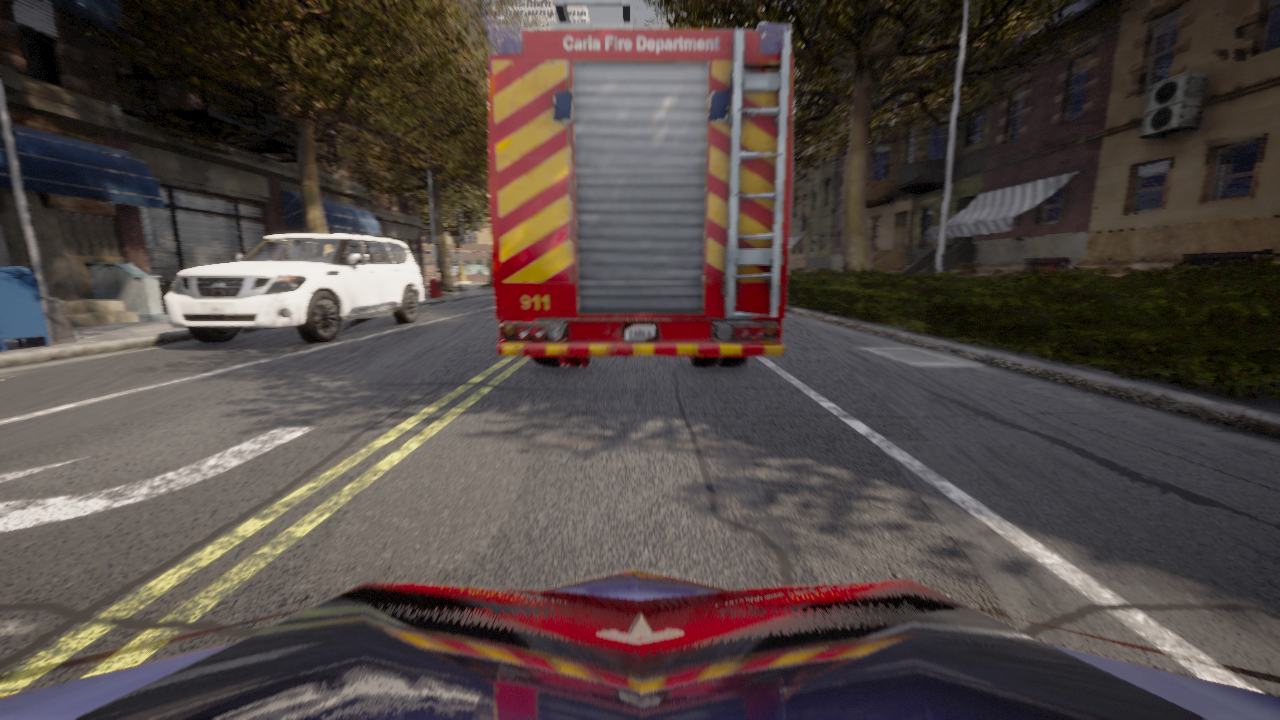cyclist: (0, 569, 1279, 719), (488, 0, 792, 367), (166, 233, 423, 342)
